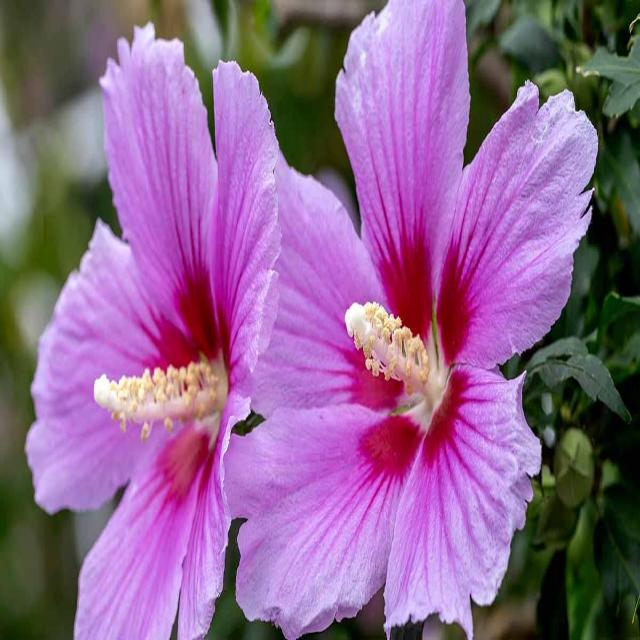organic waste: (227, 10, 604, 630), (34, 31, 266, 623)
